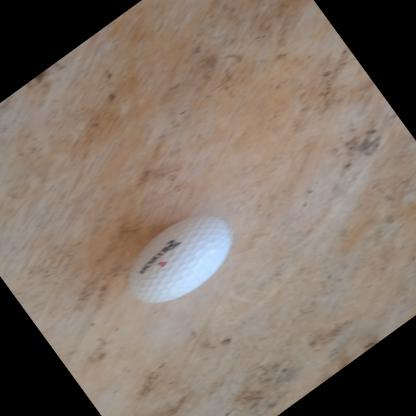Golf: (106, 192, 252, 326)
